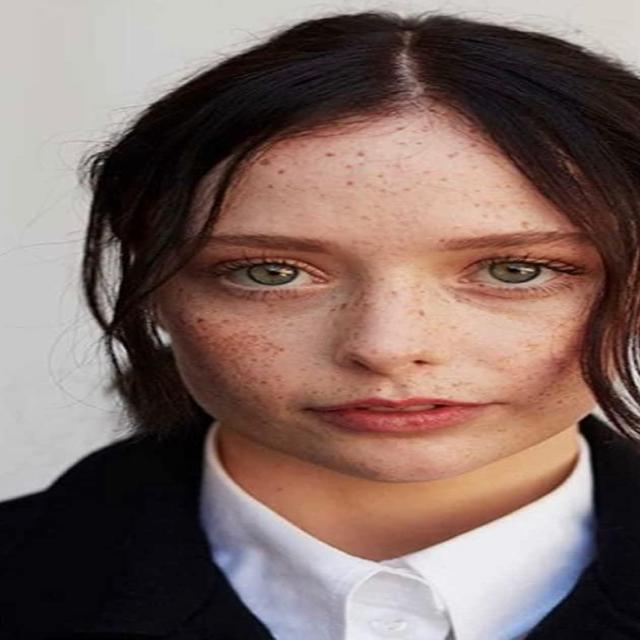freckle: (186, 295, 596, 406), (249, 111, 540, 236)
